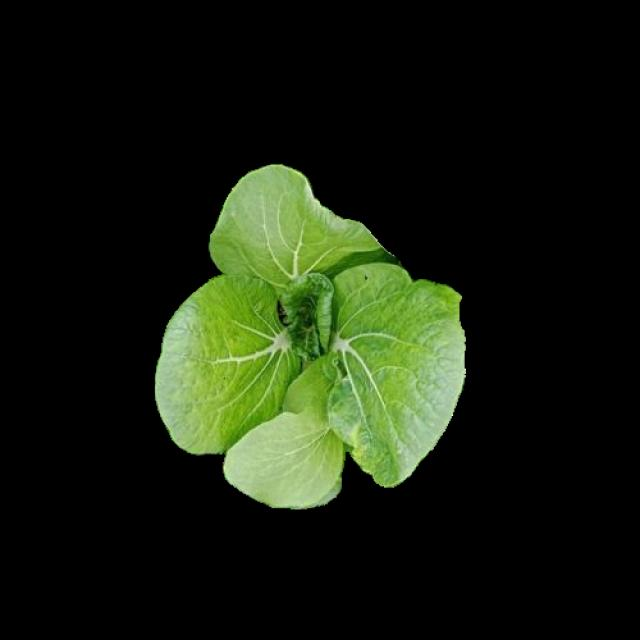mature: (158, 169, 468, 507)
unhealthy: (315, 263, 463, 485)
